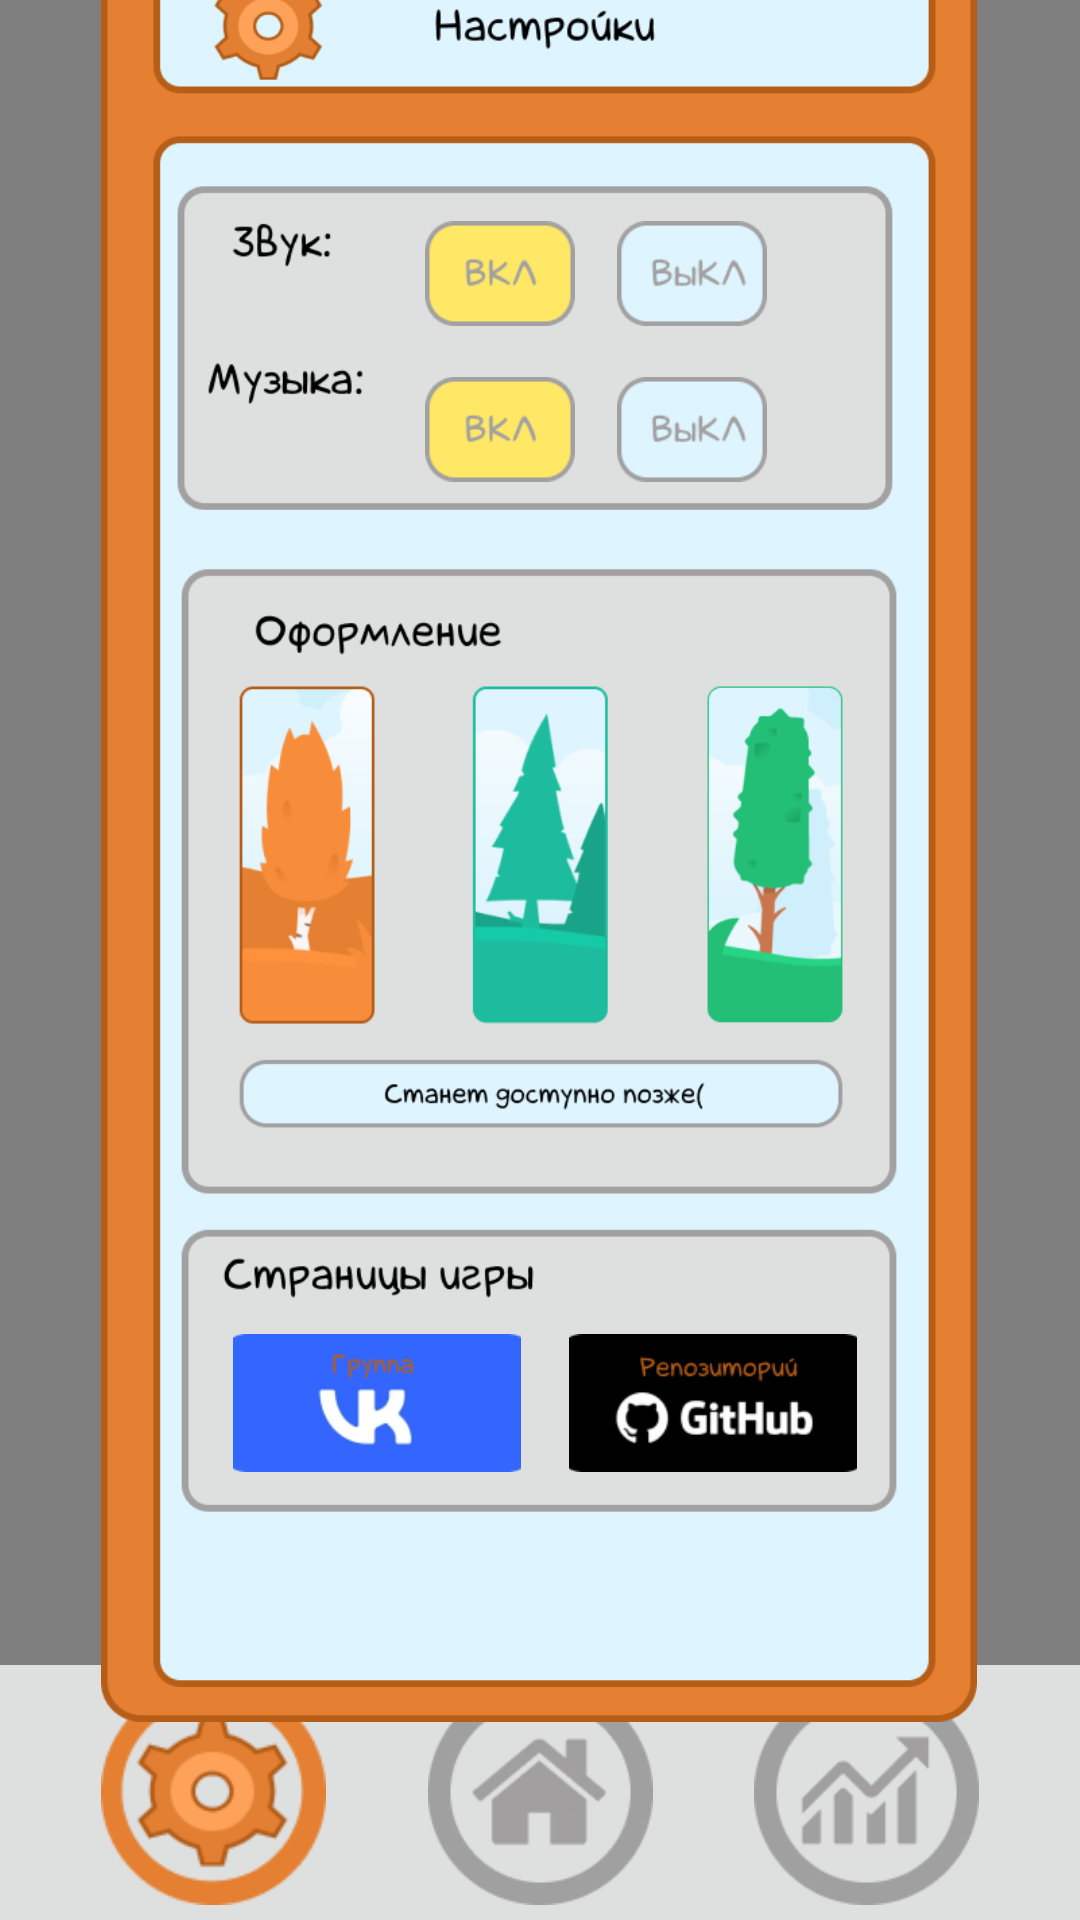

Where icons sit on this 1080x1920 app screen, as (x1, y1, x2, y2):
home off: (428, 1680, 653, 1905)
setting on: (101, 1680, 326, 1905)
stats off: (754, 1680, 979, 1905)
